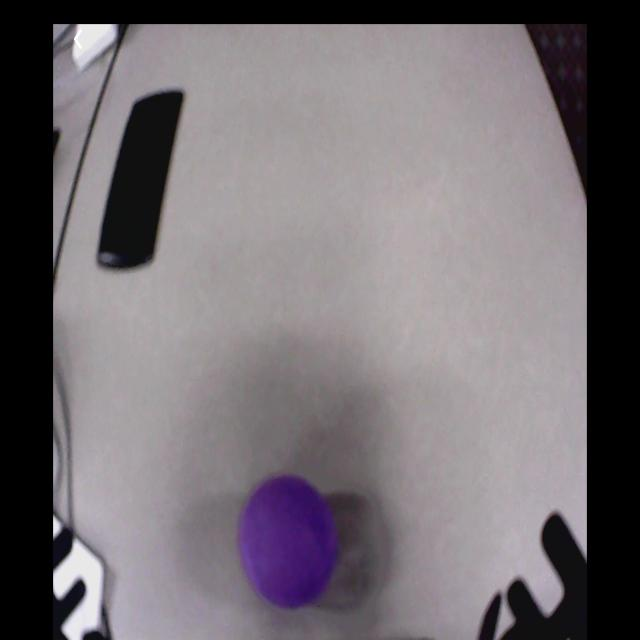ball: (240, 477, 336, 607)
